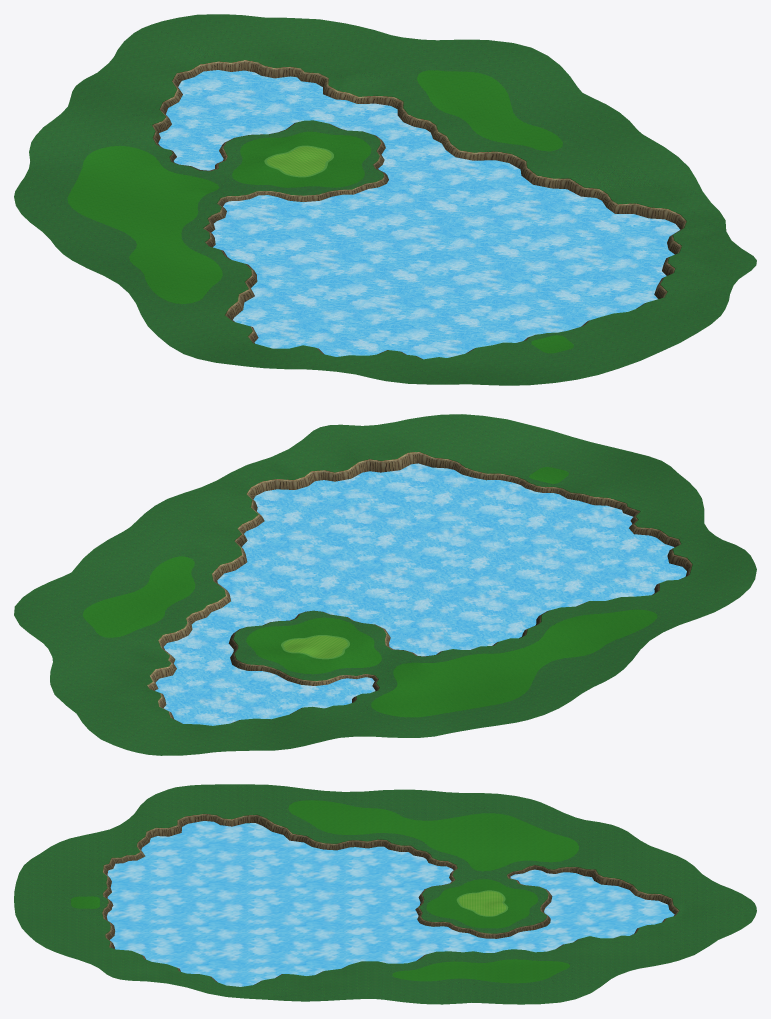
File: glf_map_fc11__glf_map_fc11.glb
3 views of the same model, one above another, from view 1: azimuth 30°, elevation 25°; view 2: azimuth 150°, elevation 25°; view 3: azimuth 270°, elevation 25° (orthographic). The views are drawn at different scales.
Parts seen in each view (by area): view 1: polygon6, polygon8, polygon1, polygon5, polygon4; view 2: polygon6, polygon8, polygon1, polygon5, polygon4; view 3: polygon6, polygon8, polygon1, polygon5, polygon4.
Boxes of the visible parts, x1,y1,x2,y2 form: polygon6: (14,14,756,385); polygon8: (158,70,680,359); polygon1: (67,70,573,353); polygon5: (152,59,686,359); polygon4: (267,146,331,176); polygon6: (14,414,756,755); polygon8: (155,463,686,725); polygon1: (83,467,657,717); polygon5: (147,451,692,723); polygon4: (283,636,347,658); polygon6: (14,784,756,1004); polygon8: (107,821,674,986); polygon1: (70,800,578,983); polygon5: (102,813,679,984); polygon4: (458,891,506,915).
Size of the model in its own units: 2690 by 77.82 by 3786.
Materials: 6 (6 with a texture image).
